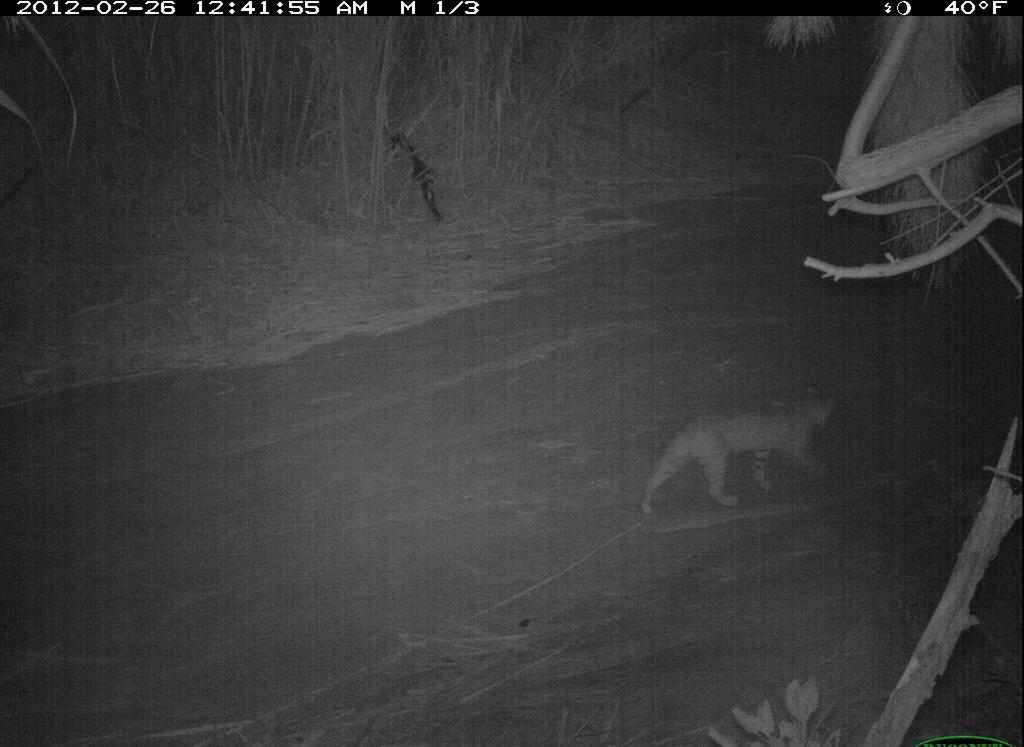bobcat: (632, 381, 849, 525)
